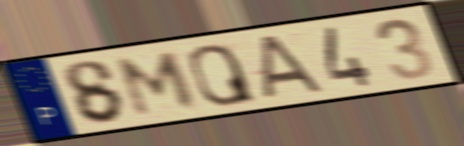3: (375, 17, 434, 81)
4: (324, 24, 373, 89)
8: (61, 59, 129, 125)
A: (257, 32, 329, 102)
M: (114, 49, 200, 119)
Q: (185, 42, 260, 108)
